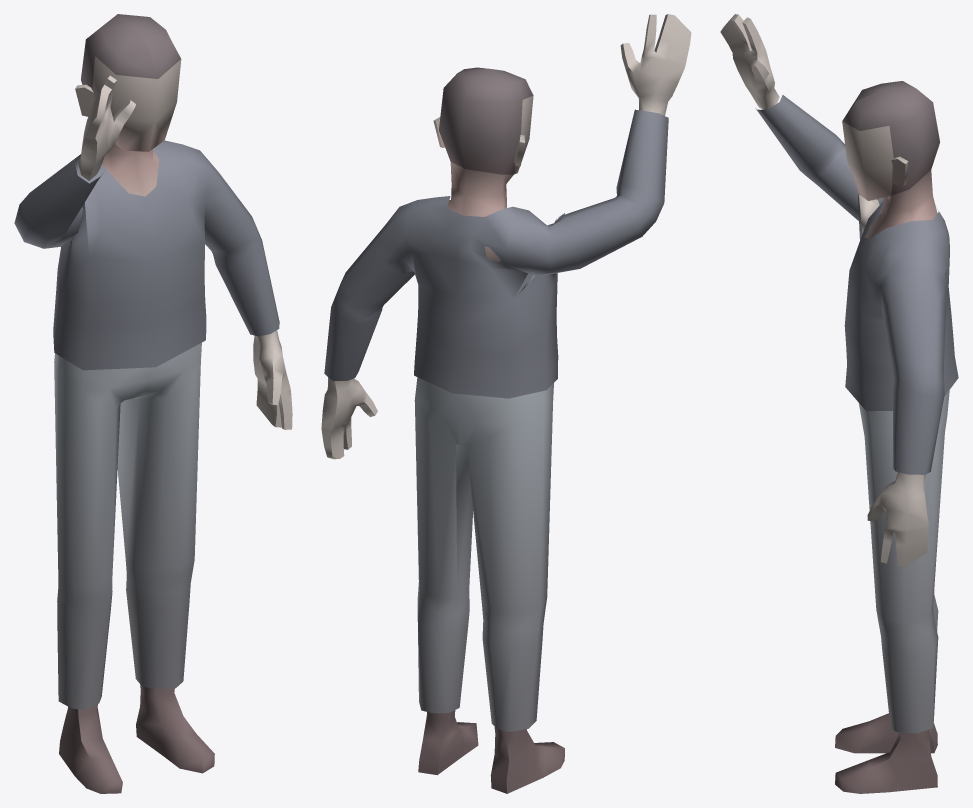
Rendered from body_01.glb.
The picture shows the model from 3 angles, left to right: view 1: azimuth 30°, elevation 25°; view 2: azimuth 150°, elevation 25°; view 3: azimuth 270°, elevation 25°; orthographic projection. The views are drawn at different scales.
Parts seen in each view (by area): view 1: body_01; view 2: body_01; view 3: body_01.
Part boxes in pixels (x1,y1,x2,y2): body_01: (14,14,292,793); body_01: (321,14,691,793); body_01: (720,14,958,793).
Size of the model in its own units: 0.6971 by 1.67 by 0.513.
